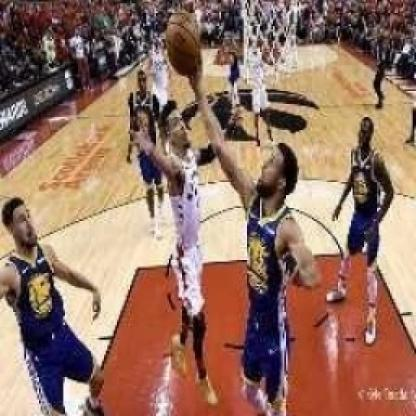basketball: (170, 15, 205, 71)
